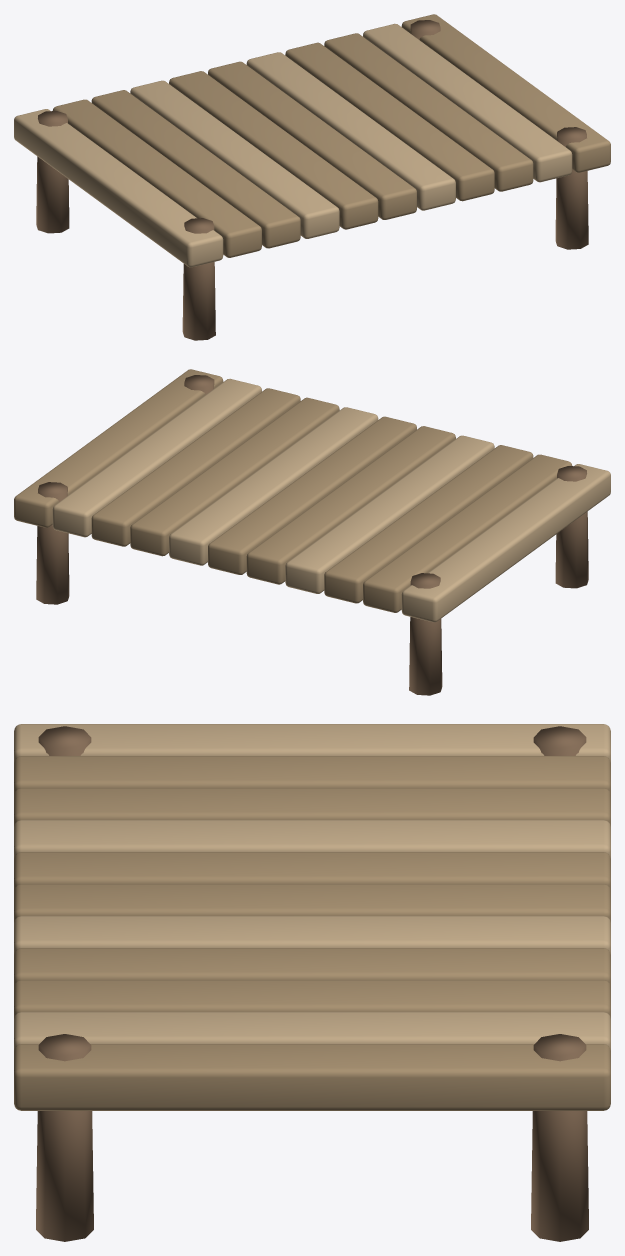
Rendered from SM_Dock.fbx.
3 views of the same model, one above another, from view 1: azimuth 30°, elevation 25°; view 2: azimuth 150°, elevation 25°; view 3: azimuth 270°, elevation 25° (orthographic). The views are drawn at different scales.
Visible parts, largest first — view 1: SM_Dock; view 2: SM_Dock; view 3: SM_Dock.
Part boxes in pixels (box(x1,y1,x2,y2)): SM_Dock: box(14, 14, 610, 340); SM_Dock: box(14, 369, 610, 695); SM_Dock: box(14, 724, 610, 1241).
Size of the model in its own units: 284 by 205 by 70.
